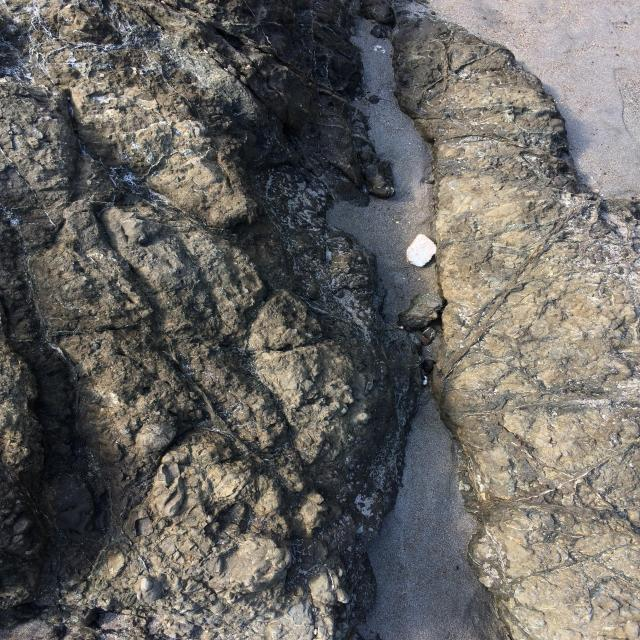Styrofoam piece: (407, 234, 436, 267)
